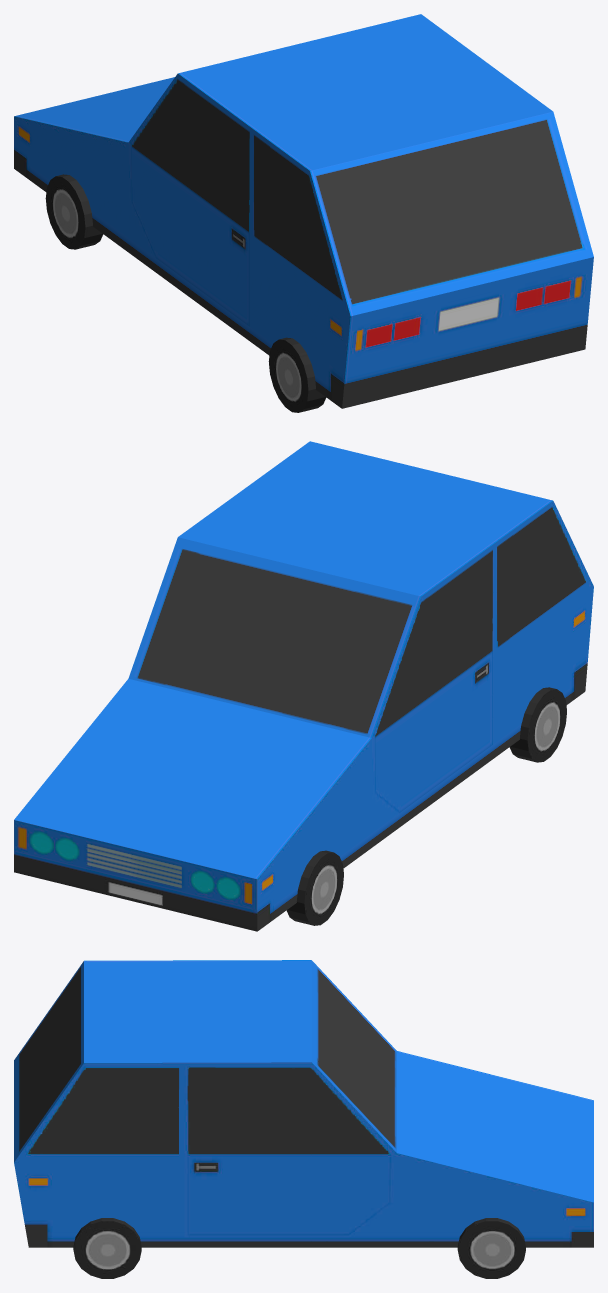
Rendered from car1blue.glb.
3 renders of one model, top to bottom at view 1: azimuth 30°, elevation 25°; view 2: azimuth 150°, elevation 25°; view 3: azimuth 270°, elevation 25°, orthographic. The views are drawn at different scales.
Parts seen in each view (by area): view 1: CAR_01; view 2: CAR_01; view 3: CAR_01.
Part boxes in pixels (x1,y1,x2,y2): CAR_01: (14,14,593,412); CAR_01: (14,441,593,931); CAR_01: (14,960,593,1278).
Size of the model in its own units: 1.78 by 1.63 by 4.01.
Materials: 1 (1 with a texture image).
